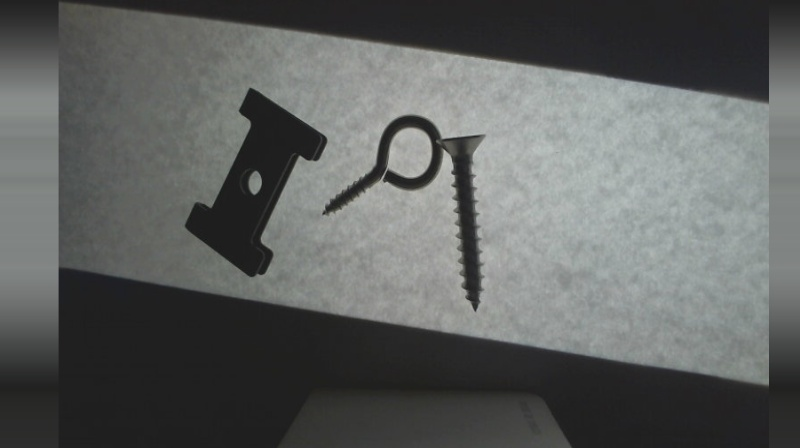O001: (319, 113, 444, 217)
O002: (184, 84, 325, 281)
S001: (435, 129, 488, 312)
